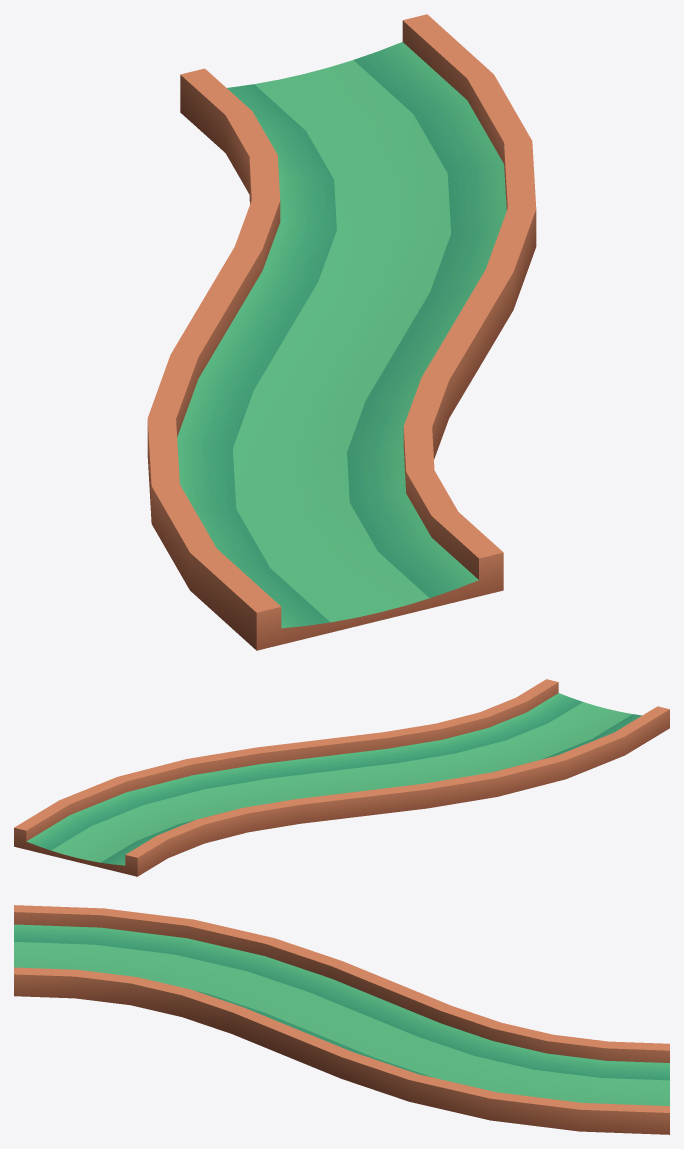
Rendered from spline-concave-curve.glb.
3 renders of one model, top to bottom at view 1: azimuth 30°, elevation 25°; view 2: azimuth 150°, elevation 25°; view 3: azimuth 270°, elevation 25°, orthographic. The views are drawn at different scales.
Visible parts, largest first — view 1: spline-concave-curve; view 2: spline-concave-curve; view 3: spline-concave-curve.
Part boxes in pixels (<box>): spline-concave-curve: <box>147,14,536,650</box>; spline-concave-curve: <box>14,679,669,876</box>; spline-concave-curve: <box>14,905,669,1134</box>.
Bounding box in the file's own units: 3 × 0.1467 × 4.
Materials: 1 (1 with a texture image).
